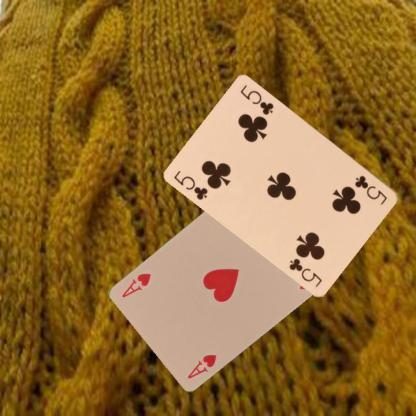5c: (172, 167, 209, 202), (352, 172, 389, 206)
Ah: (184, 352, 218, 381)
